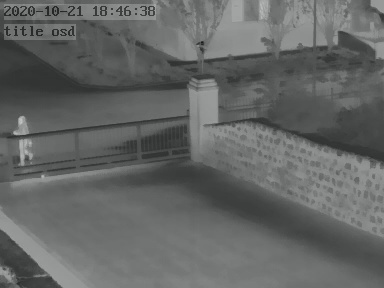person: (11, 112, 37, 168)
